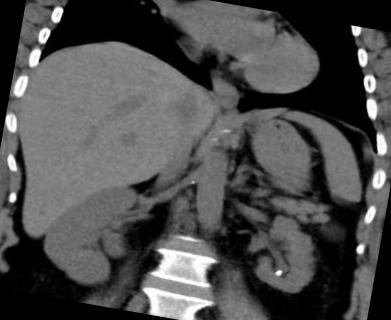Tas_Var: (270, 264, 286, 279)
